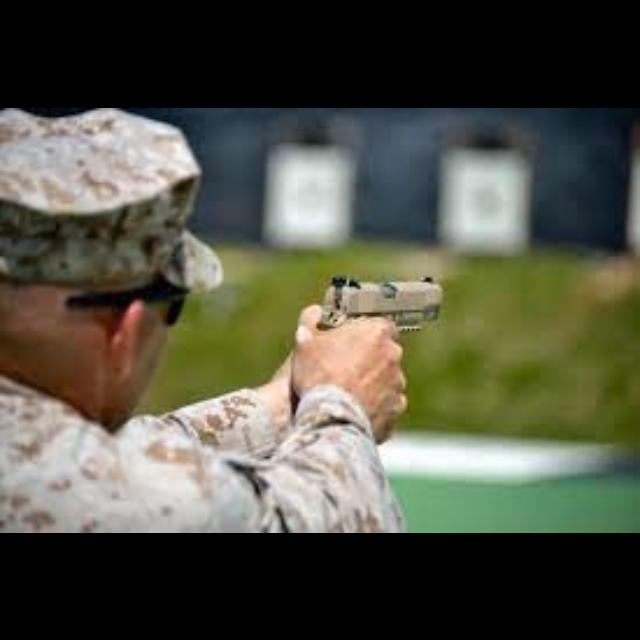handgun: (312, 268, 450, 338)
